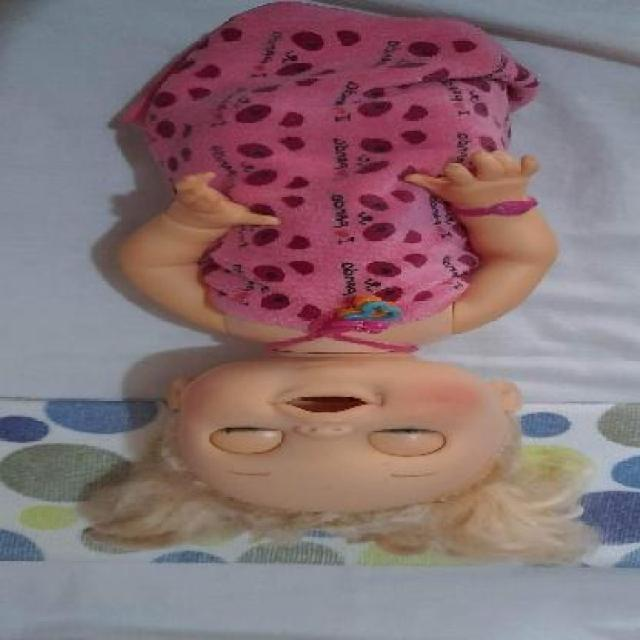non-dog: (81, 5, 593, 556)
